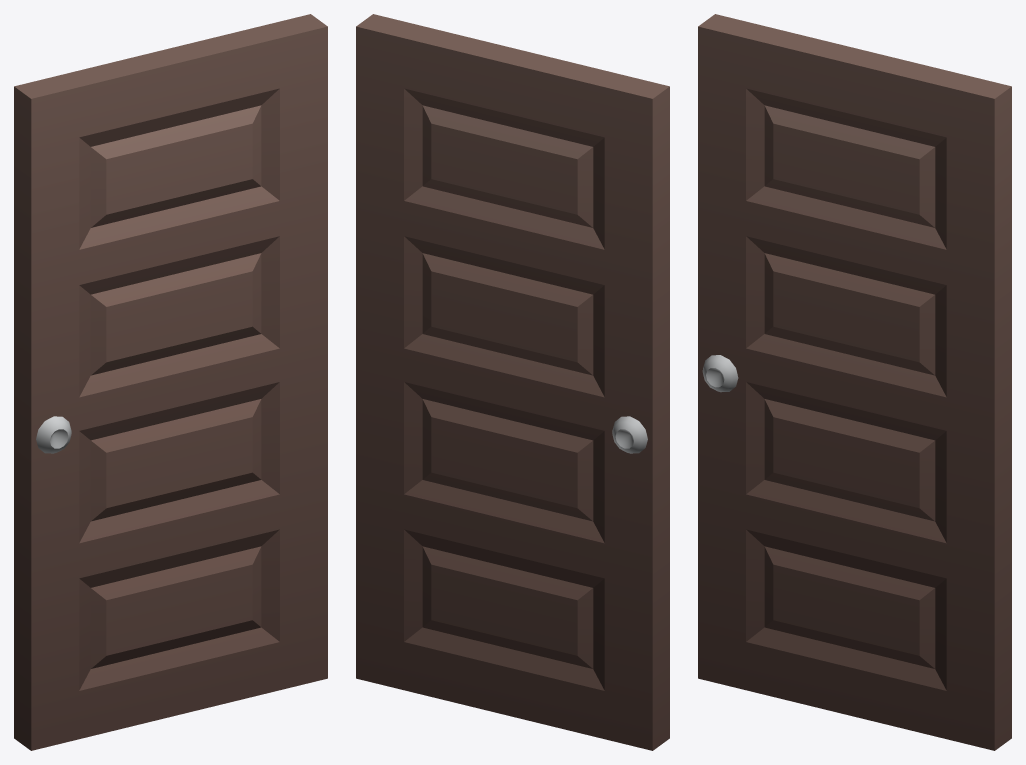
The model's file is Door_Brown_04.glb.
The picture shows the model from 3 angles, left to right: view 1: azimuth 30°, elevation 25°; view 2: azimuth 150°, elevation 25°; view 3: azimuth 330°, elevation 25°; orthographic projection.
Parts seen in each view (by area): view 1: Door_Brown_04; view 2: Door_Brown_04; view 3: Door_Brown_04.
Boxes of the visible parts, x1=… form: Door_Brown_04: x1=14, y1=14, x2=327, y2=750; Door_Brown_04: x1=356, y1=14, x2=669, y2=750; Door_Brown_04: x1=698, y1=14, x2=1011, y2=750.
Size of the model in its own units: 1 by 2.1 by 0.1634.
Materials: 1 (1 with a texture image).
